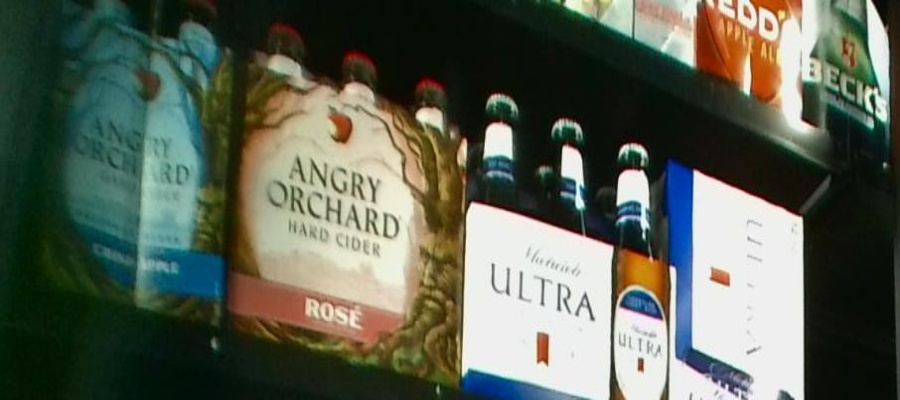bottle: (236, 18, 463, 372), (477, 79, 663, 400)
